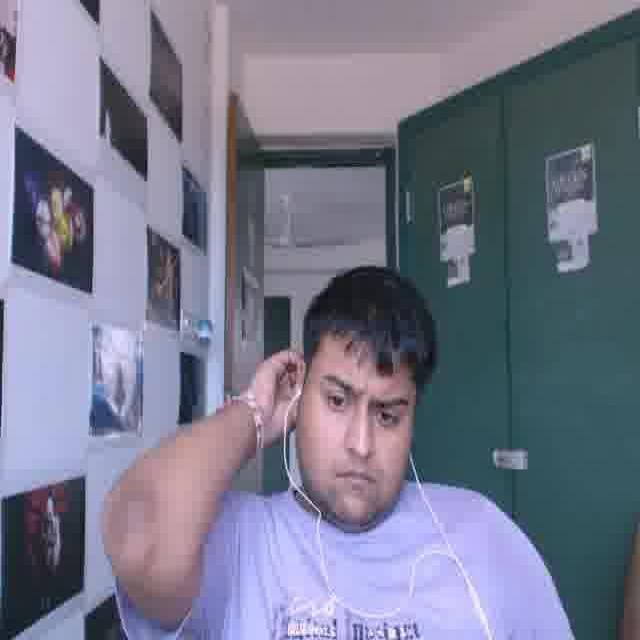Boredom: (299, 335, 414, 516)
